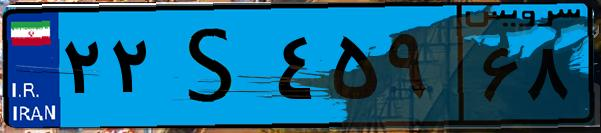2: (57, 26, 110, 100), (110, 28, 158, 98)
4: (270, 28, 330, 110)
5: (330, 28, 385, 110)
6: (475, 38, 525, 113)
8: (525, 38, 570, 115)
9: (385, 28, 445, 110)
S: (158, 12, 270, 120)
